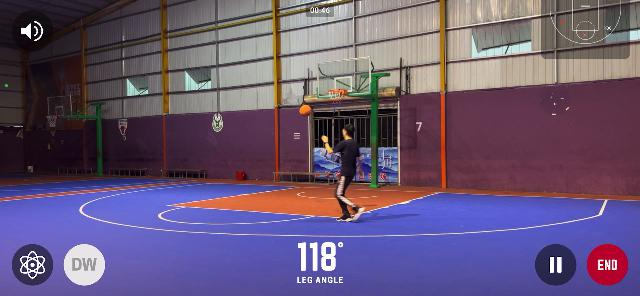ball: (298, 103, 312, 116)
basket: (328, 88, 347, 106)
